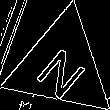N_NE: (30, 33, 92, 99)
